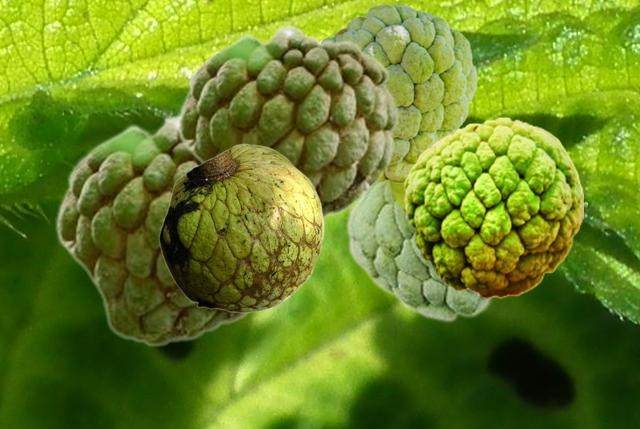atis: (53, 113, 254, 346), (175, 23, 398, 222), (403, 116, 582, 298), (158, 143, 323, 312), (323, 4, 476, 182), (344, 181, 493, 322)
